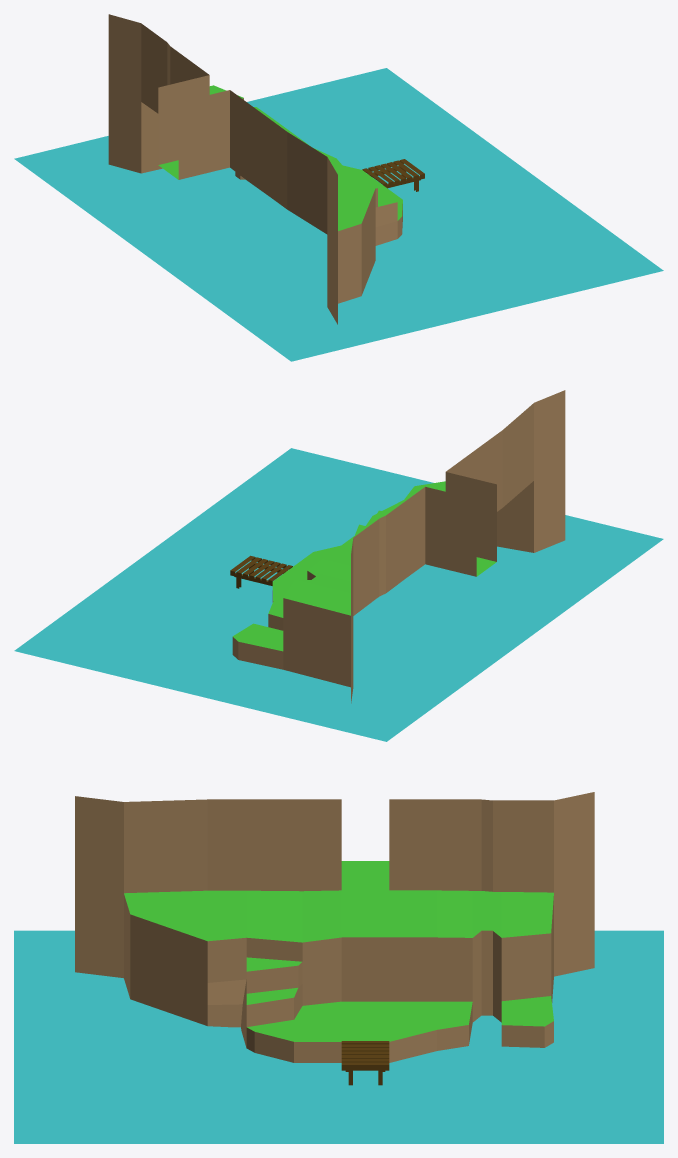
Rendered from DockArea.fbx.
The picture shows the model from 3 angles, top to bottom: view 1: azimuth 30°, elevation 25°; view 2: azimuth 150°, elevation 25°; view 3: azimuth 270°, elevation 25°; orthographic projection. The views are drawn at different scales.
Visible parts, largest first — view 1: Plane; view 2: Plane; view 3: Plane.
Part boxes in pixels (<box>): Plane: <box>14,14,663,361</box>; Plane: <box>14,390,663,741</box>; Plane: <box>14,792,663,1143</box>.
Bounding box in the file's own units: 5292 × 2182 × 6820.
